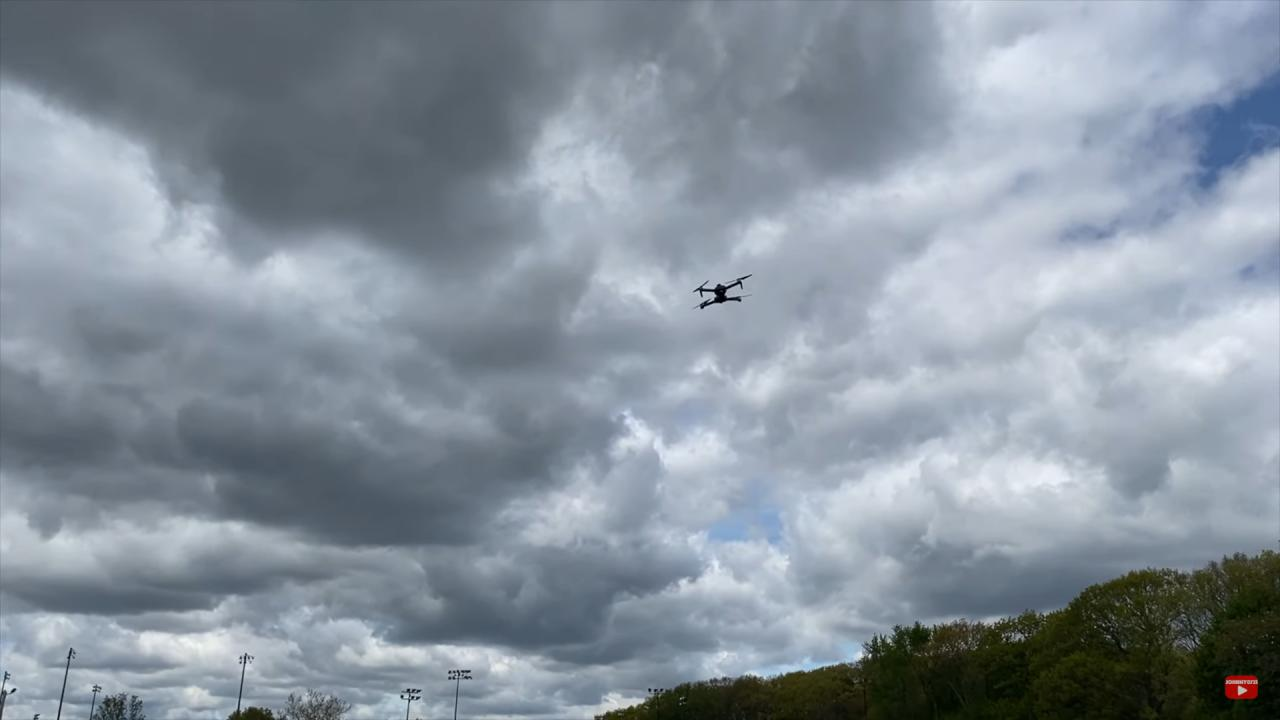Drone: (685, 268, 753, 317)
